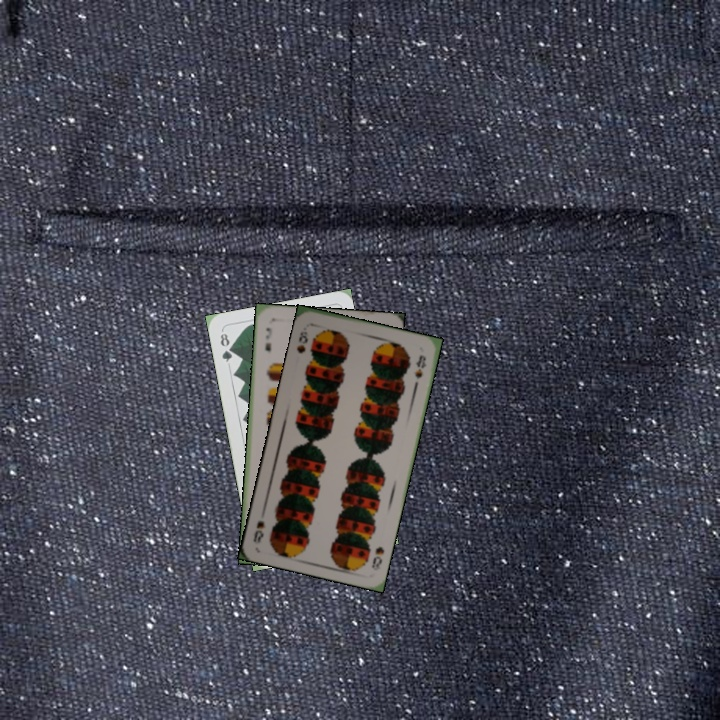E7: (261, 324, 274, 354)
G8: (216, 329, 235, 365)
S8: (292, 327, 310, 356), (368, 543, 387, 570)
